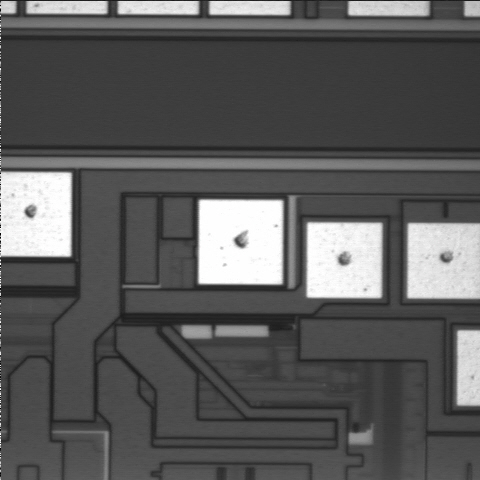pad: (198, 200, 283, 284), (307, 222, 382, 298)
